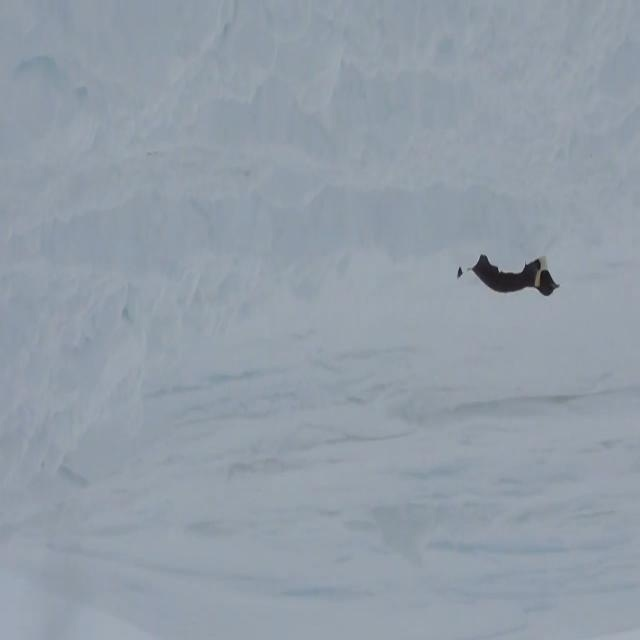penguin: (455, 256, 561, 298)
